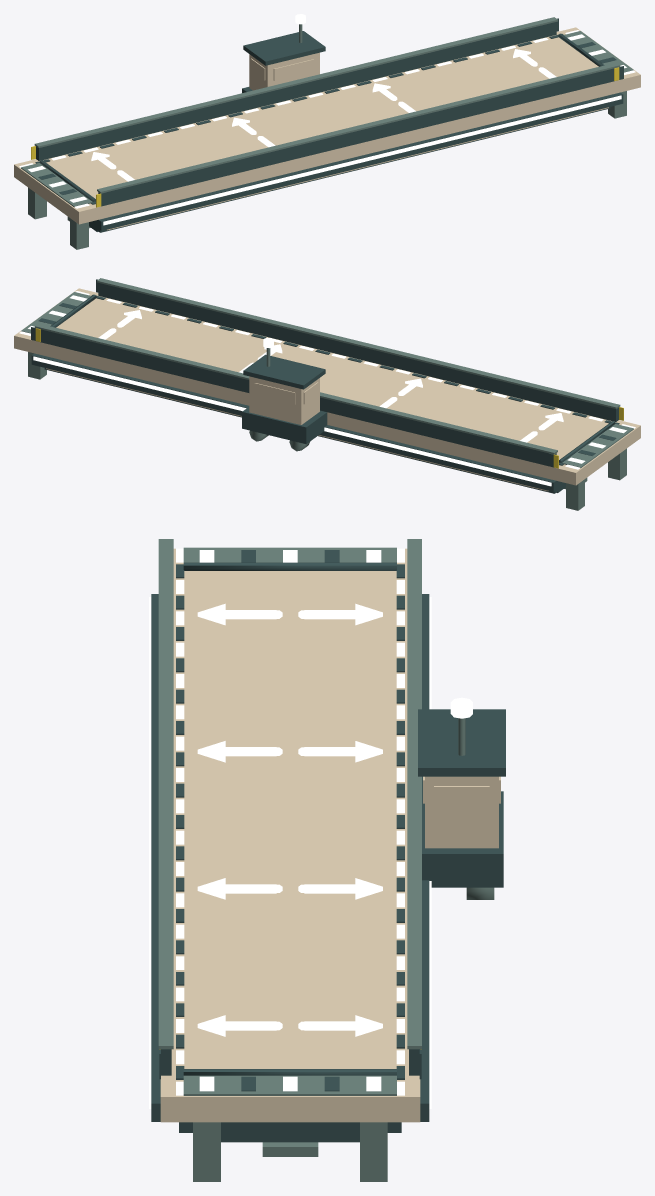
File: Deck_Ferry_v4_14_lab2.glb
3 views of the same model, one above another, from view 1: azimuth 30°, elevation 25°; view 2: azimuth 150°, elevation 25°; view 3: azimuth 270°, elevation 25° (orthographic). The views are drawn at different scales.
Visible parts, largest first — view 1: Deck_Ferry_v4_14; view 2: Deck_Ferry_v4_14; view 3: Deck_Ferry_v4_14.
Boxes of the visible parts, x1,y1,x2,y2 form: Deck_Ferry_v4_14: (14,14,640,249); Deck_Ferry_v4_14: (14,278,640,510); Deck_Ferry_v4_14: (149,539,505,1181).
Bounding box in the file's own units: 14 × 2.7 × 3.85.
